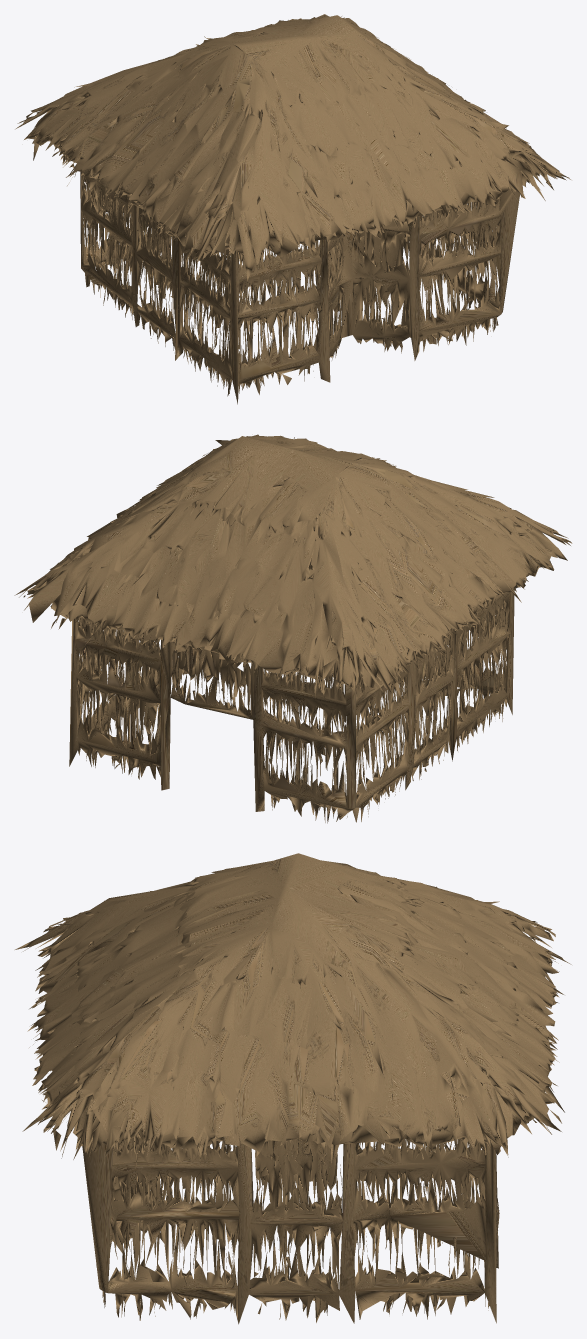
Rendered from village-hut.glb.
3 renders of one model, top to bottom at view 1: azimuth 30°, elevation 25°; view 2: azimuth 150°, elevation 25°; view 3: azimuth 270°, elevation 25°, orthographic. The views are drawn at different scales.
Size of the model in its own units: 1.85 by 1.33 by 1.87.
Materials: 1 (1 with a texture image).
